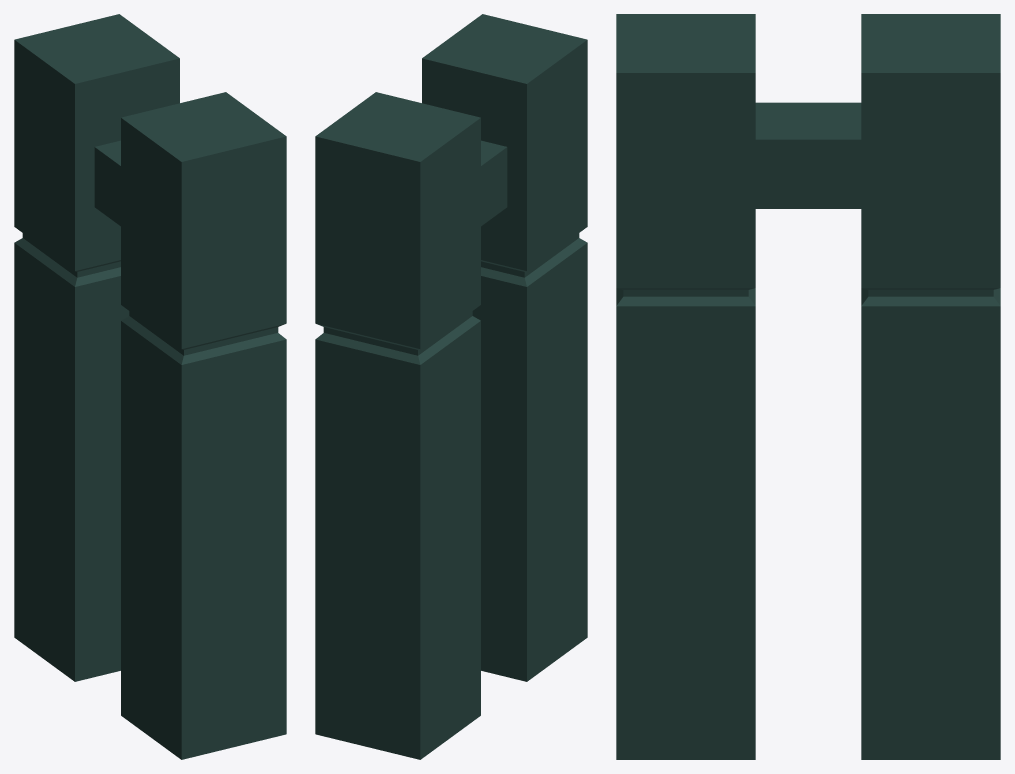
Rendered from gebouwDubbel1.fbx.
3 views of the same model, side by side, from view 1: azimuth 30°, elevation 25°; view 2: azimuth 150°, elevation 25°; view 3: azimuth 270°, elevation 25° (orthographic). The views are drawn at different scales.
Visible parts, largest first — view 1: polySurface26; view 2: polySurface26; view 3: polySurface26.
Boxes of the visible parts, x1=… form: polySurface26: x1=14, y1=14, x2=286, y2=759; polySurface26: x1=315, y1=14, x2=587, y2=759; polySurface26: x1=616, y1=14, x2=1000, y2=759.
Bounding box in the file's own units: 4.75 × 25.85 × 13.11.
